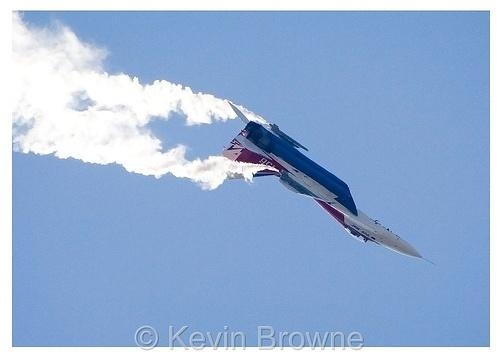aeroplane: (216, 101, 426, 261)
